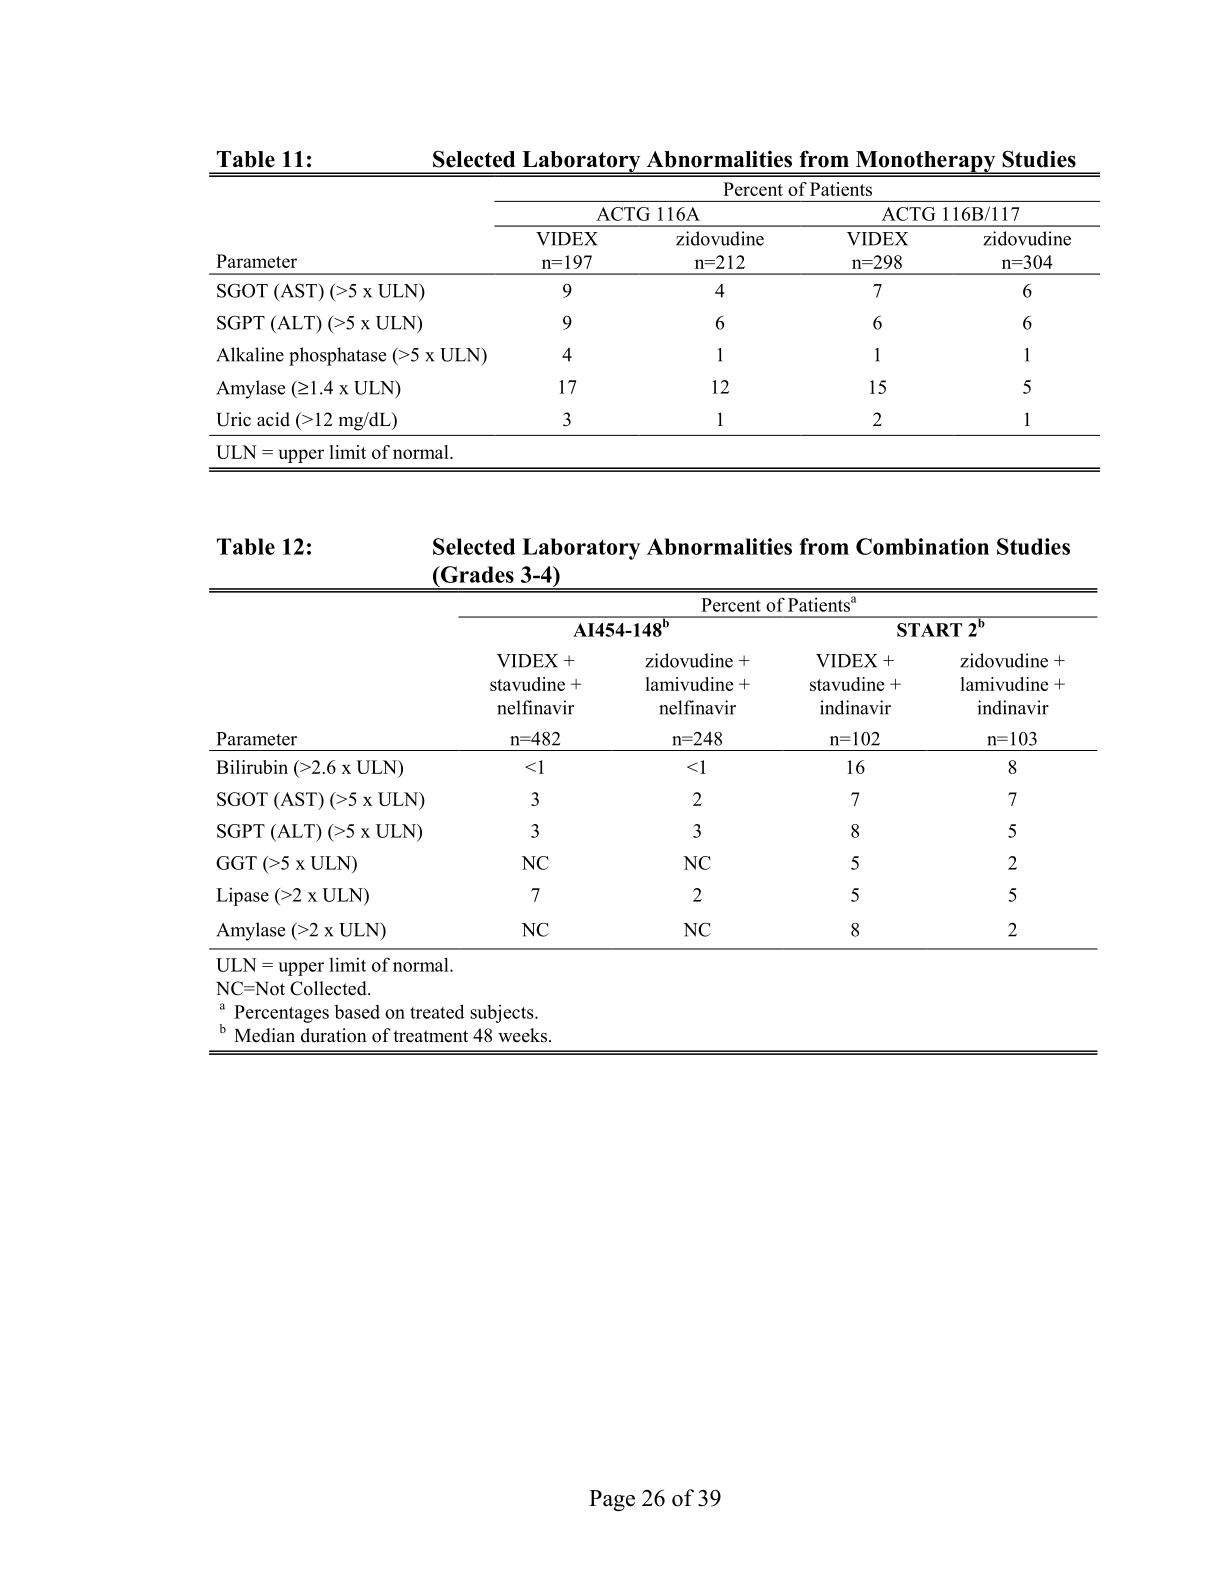partial_lined_merged_cells: (210, 586, 1095, 951), (207, 170, 1099, 471)
